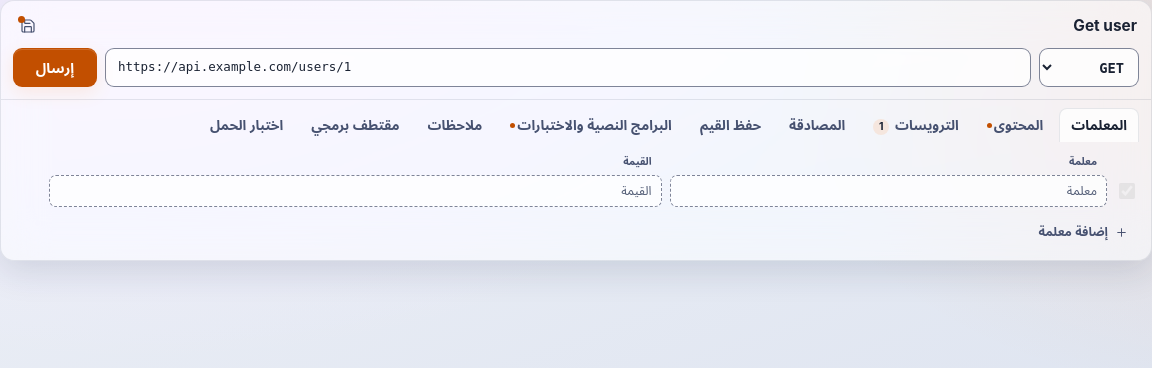
Scenario: RequestEditor translations › renders the key/value rows in Arabic
Click the tab "الترويسات 1" at (916, 125), box [861,108,971,142]
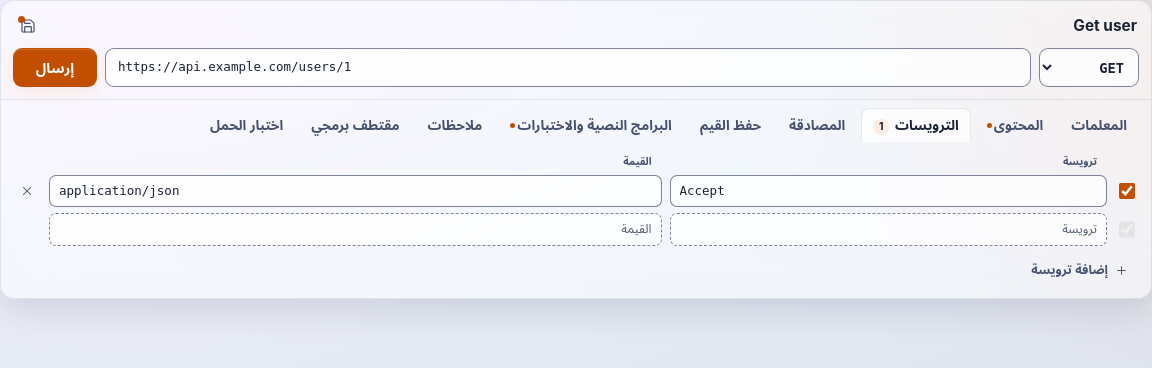
Expected: the button "إرسال" is shown, [13,48,97,87]
Now the field named "اسم الترويسة 1" holds "Accept", box [670,175,1107,208]
Now the button "إضافة ترويسة" is shown, box [1020,255,1139,286]
